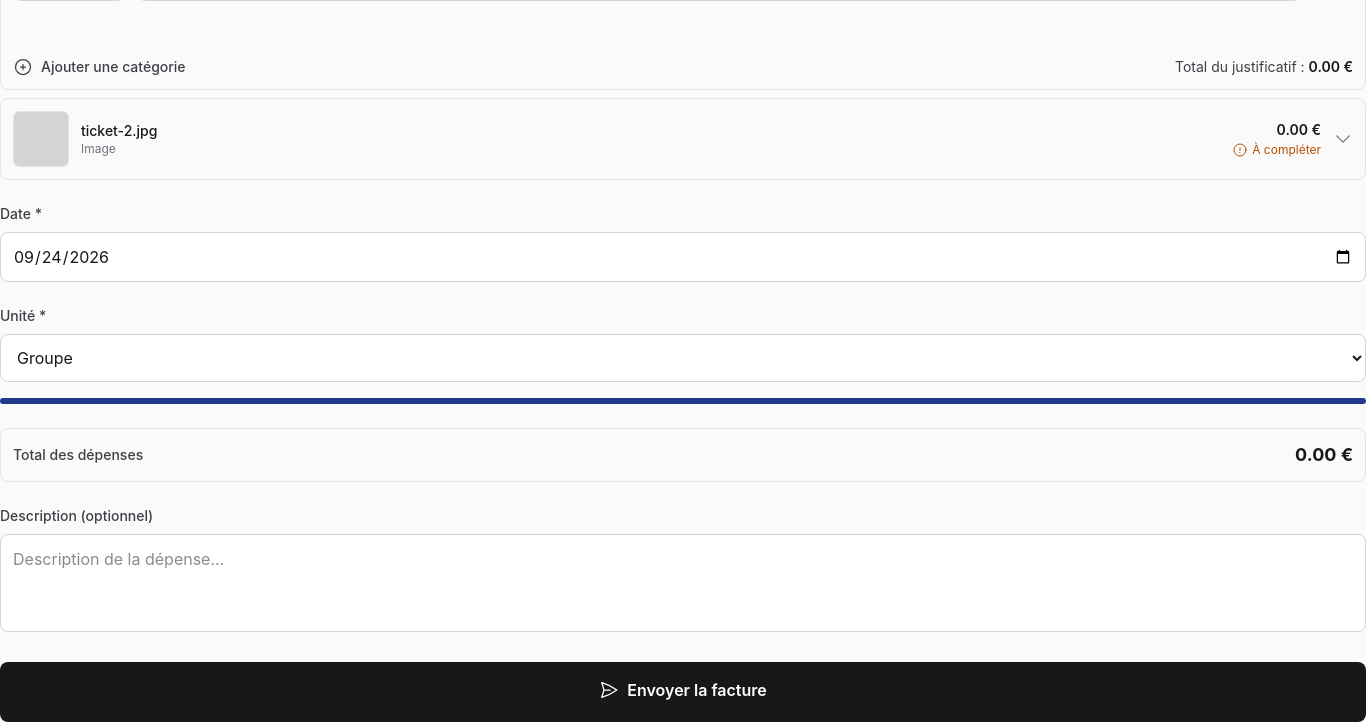
Test: FormulaireDepense › détaille les erreurs de chaque justificatif et ouvre le premier incomplet
(page scrolled)
Click the button "Envoyer la facture" at (683, 692), box [0,662,1365,721]
(page scrolled)
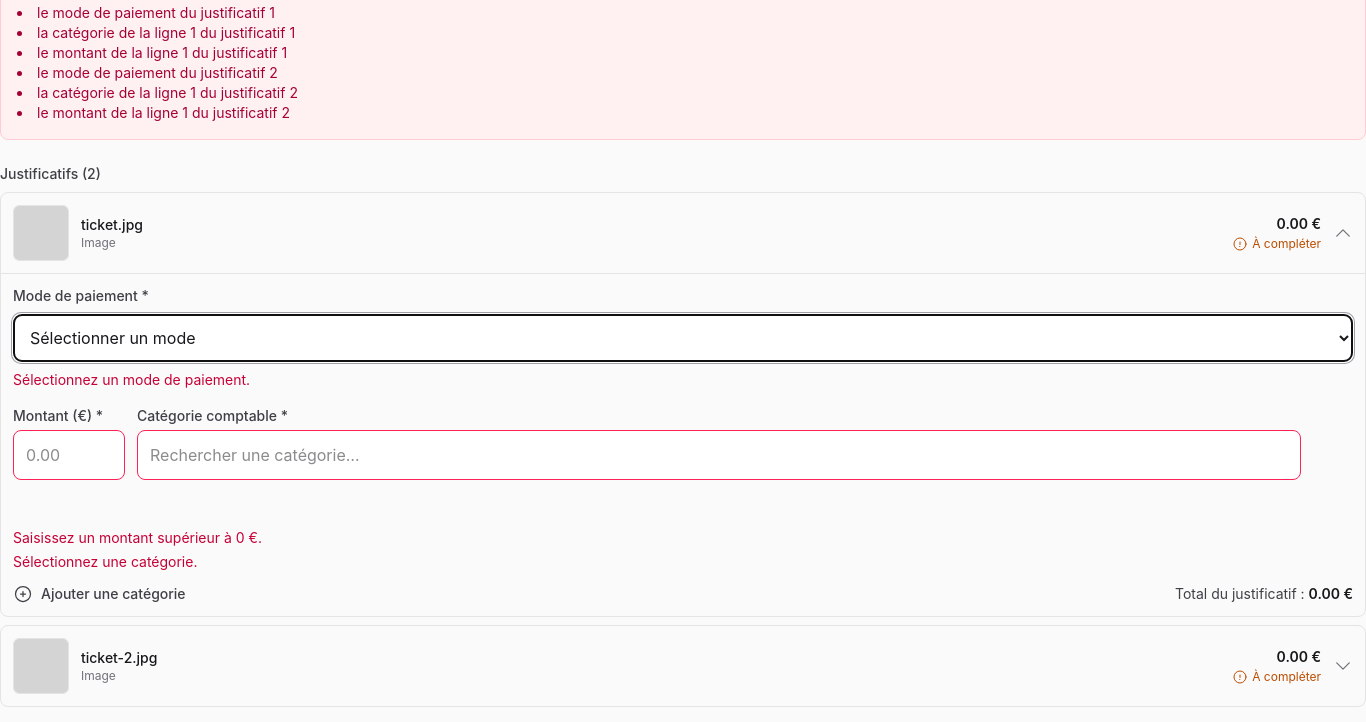
Now the message shows "le mode de paiement du justificatif 1", box [37,4,275,21]
Now the message shows "la catégorie de la ligne 1 du justificatif 2", box [37,84,298,101]
Now the message shows "le montant de la ligne 1 du justificatif 2", box [37,104,290,121]
